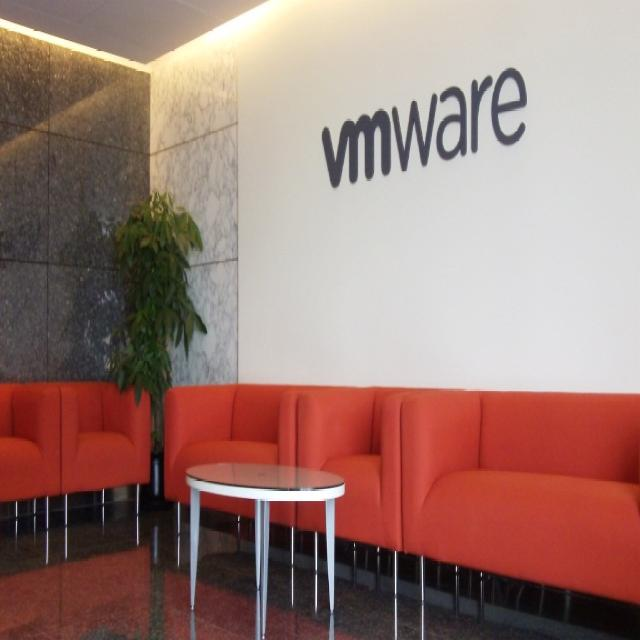vmware: (320, 104, 393, 192)
